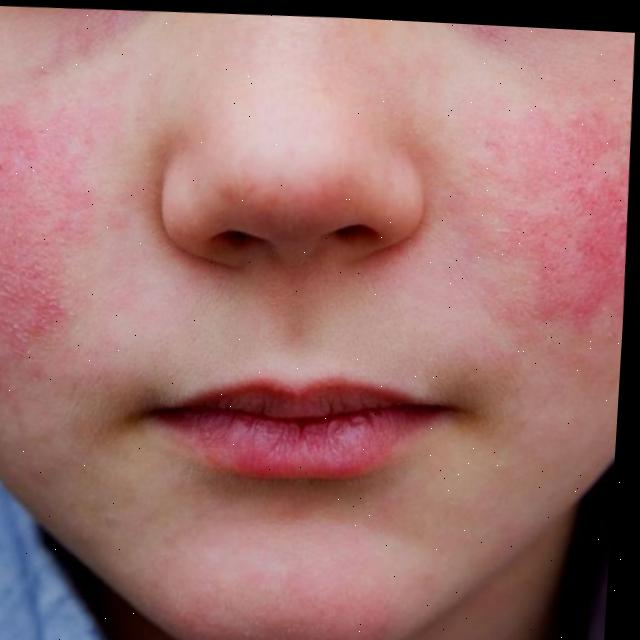Rosacea: (446, 98, 636, 340), (0, 74, 81, 399), (174, 567, 416, 640)
